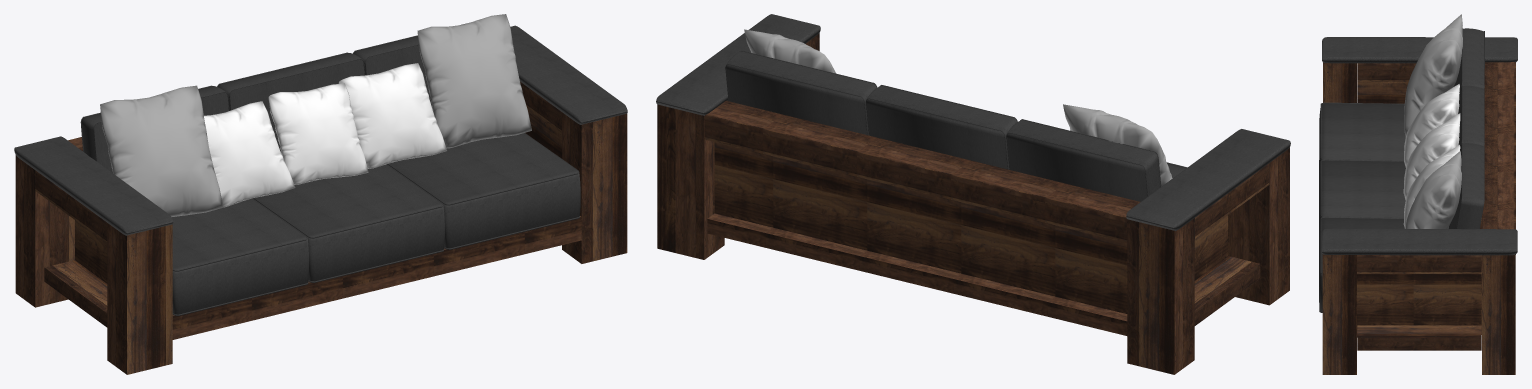
3 renders of one model, left to right at view 1: azimuth 30°, elevation 25°; view 2: azimuth 150°, elevation 25°; view 3: azimuth 270°, elevation 25°, orthographic. The views are drawn at different scales.
Parts seen in each view (by area): view 1: Mesh42_Cushion_Bottom_1_6_Group26_Group12_Group1_Model, Mesh45_Cushion_Bottom_1_7_Group27_Group12_Group1_Model, Mesh48_Cushion_Bottom_1_8_Group28_Group12_Group1_Model, Mesh25_Group19_Group12_Group1_Model, Mesh30_Group22_Group12_Group1_Model, Mesh24_Group18_Group12_Group1_Model, Mesh27_Group20_Group12_Group1_Model, Mesh22_Group16_Group12_Group1_Model, Mesh19_Group15_Group12_Group1_Model, Mesh17_Group13_Group12_Group1_Model, Mesh50_Group30_Group12_Group1_Model, Mesh18_Group14_Group12_Group1_Model (+11 smaller); view 2: Mesh24_Group18_Group12_Group1_Model, Mesh23_Group18_Group12_Group1_Model, Mesh33_Cushion_Bottom_1_3_Group23_Group12_Group1_Model, Mesh39_Cushion_Bottom_1_5_Group25_Group12_Group1_Model, Mesh36_Cushion_Bottom_1_4_Group24_Group12_Group1_Model, Mesh50_Group30_Group12_Group1_Model, Mesh27_Group20_Group12_Group1_Model, Mesh49_Group29_Group12_Group1_Model, Mesh25_Group19_Group12_Group1_Model, Mesh26_Group21_Group20_Group12_Group1_Model, Mesh30_Group22_Group12_Group1_Model, Mesh29_Group20_Group12_Group1_Model (+1 smaller); view 3: Mesh22_Group16_Group12_Group1_Model, Mesh24_Group18_Group12_Group1_Model, Mesh49_Group29_Group12_Group1_Model, Mesh45_Cushion_Bottom_1_7_Group27_Group12_Group1_Model, Mesh48_Cushion_Bottom_1_8_Group28_Group12_Group1_Model, Mesh50_Group30_Group12_Group1_Model, Mesh25_Group19_Group12_Group1_Model, Mesh20_Group17_Group16_Group12_Group1_Model, Mesh30_Group22_Group12_Group1_Model, Mesh21_Group16_Group12_Group1_Model, Mesh39_Cushion_Bottom_1_5_Group25_Group12_Group1_Model, Mesh17_Group13_Group12_Group1_Model (+10 smaller).
Part boxes in pixels (left/top/right/bottom): Mesh42_Cushion_Bottom_1_6_Group26_Group12_Group1_Model: left=387, top=133, right=580, bottom=248; Mesh45_Cushion_Bottom_1_7_Group27_Group12_Group1_Model: left=254, top=164, right=444, bottom=281; Mesh48_Cushion_Bottom_1_8_Group28_Group12_Group1_Model: left=172, top=198, right=308, bottom=314; Mesh25_Group19_Group12_Group1_Model: left=100, top=85, right=223, bottom=216; Mesh30_Group22_Group12_Group1_Model: left=417, top=14, right=531, bottom=148; Mesh24_Group18_Group12_Group1_Model: left=68, top=137, right=581, bottom=339; Mesh27_Group20_Group12_Group1_Model: left=107, top=223, right=172, bottom=374; Mesh22_Group16_Group12_Group1_Model: left=525, top=107, right=627, bottom=263; Mesh19_Group15_Group12_Group1_Model: left=338, top=63, right=446, bottom=168; Mesh17_Group13_Group12_Group1_Model: left=268, top=83, right=368, bottom=184; Mesh50_Group30_Group12_Group1_Model: left=14, top=136, right=173, bottom=235; Mesh18_Group14_Group12_Group1_Model: left=204, top=101, right=295, bottom=207; Mesh24_Group18_Group12_Group1_Model: left=657, top=100, right=1140, bottom=335; Mesh23_Group18_Group12_Group1_Model: left=1127, top=218, right=1194, bottom=374; Mesh33_Cushion_Bottom_1_3_Group23_Group12_Group1_Model: left=1006, top=120, right=1160, bottom=201; Mesh39_Cushion_Bottom_1_5_Group25_Group12_Group1_Model: left=725, top=51, right=876, bottom=135; Mesh36_Cushion_Bottom_1_4_Group24_Group12_Group1_Model: left=866, top=85, right=1016, bottom=169; Mesh50_Group30_Group12_Group1_Model: left=1126, top=129, right=1290, bottom=230; Mesh27_Group20_Group12_Group1_Model: left=1228, top=147, right=1289, bottom=305; Mesh49_Group29_Group12_Group1_Model: left=656, top=14, right=820, bottom=115; Mesh25_Group19_Group12_Group1_Model: left=1063, top=104, right=1172, bottom=186; Mesh26_Group21_Group20_Group12_Group1_Model: left=1194, top=256, right=1260, bottom=325; Mesh30_Group22_Group12_Group1_Model: left=744, top=29, right=835, bottom=73; Mesh29_Group20_Group12_Group1_Model: left=1194, top=163, right=1269, bottom=238; Mesh22_Group16_Group12_Group1_Model: left=1322, top=254, right=1481, bottom=374; Mesh24_Group18_Group12_Group1_Model: left=1480, top=62, right=1515, bottom=374; Mesh49_Group29_Group12_Group1_Model: left=1322, top=229, right=1517, bottom=255; Mesh45_Cushion_Bottom_1_7_Group27_Group12_Group1_Model: left=1319, top=160, right=1405, bottom=236; Mesh48_Cushion_Bottom_1_8_Group28_Group12_Group1_Model: left=1319, top=103, right=1405, bottom=181; Mesh50_Group30_Group12_Group1_Model: left=1322, top=37, right=1517, bottom=63; Mesh25_Group19_Group12_Group1_Model: left=1404, top=14, right=1462, bottom=136; Mesh20_Group17_Group16_Group12_Group1_Model: left=1357, top=325, right=1481, bottom=350; Mesh30_Group22_Group12_Group1_Model: left=1405, top=151, right=1461, bottom=228; Mesh21_Group16_Group12_Group1_Model: left=1357, top=255, right=1481, bottom=273; Mesh39_Cushion_Bottom_1_5_Group25_Group12_Group1_Model: left=1449, top=143, right=1484, bottom=229; Mesh17_Group13_Group12_Group1_Model: left=1403, top=113, right=1460, bottom=199.
Size of the model in its own units: 3.63 by 1.38 by 1.44.
5 materials, 3 textured.
